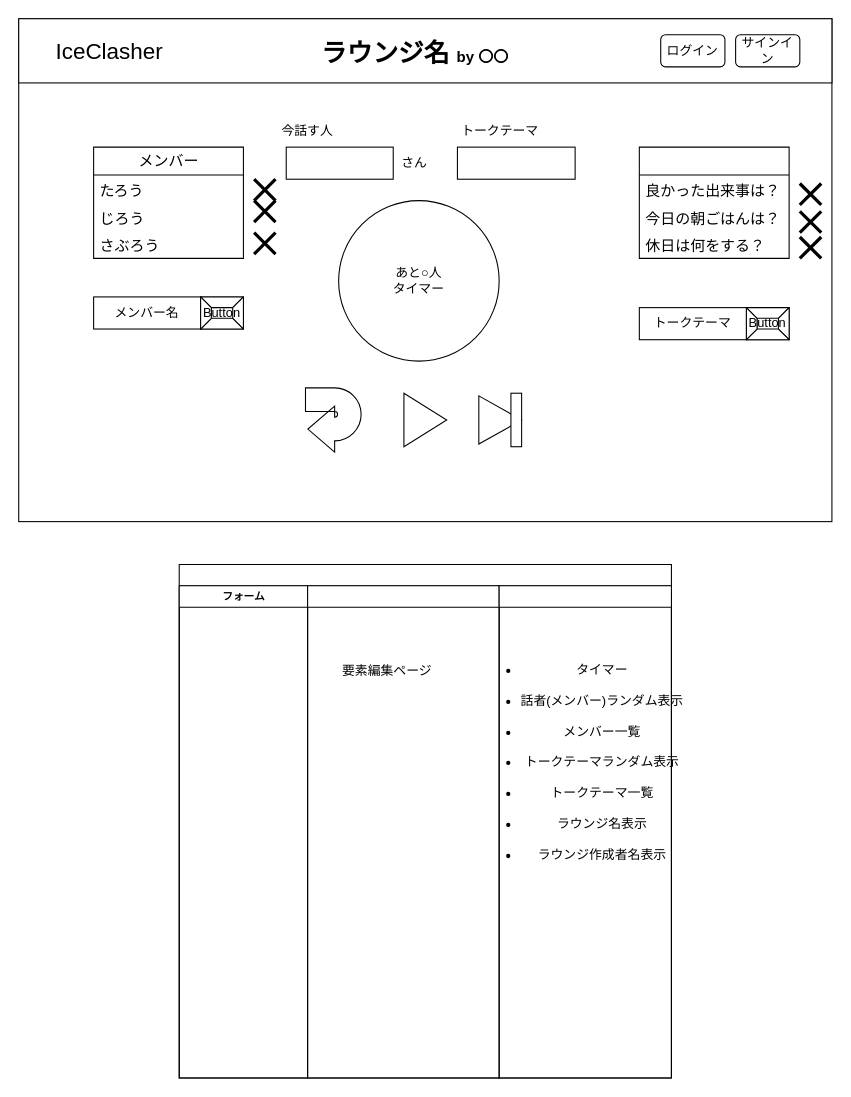
Some shapes in this 851 by 1097 pixel diagram are drawn without their labels. Each missing label, with the box of its shape:
トークリスト: (638, 146, 789, 258)
ボタン: (307, 585, 499, 1078)
表示: (498, 585, 671, 1078)
要件: (178, 563, 671, 1078)
